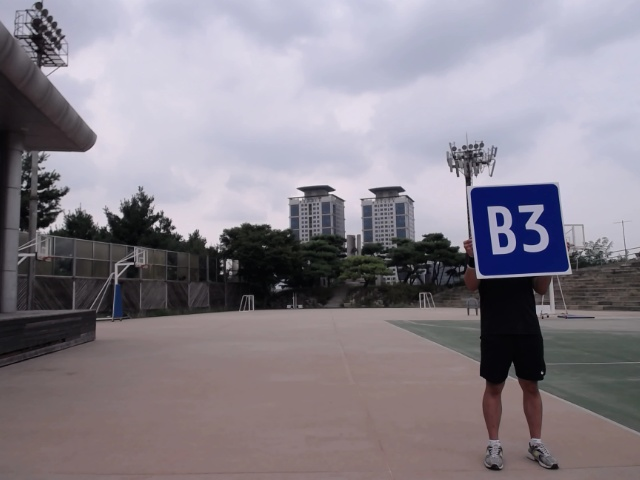delivery_b3: (466, 184, 574, 280)
